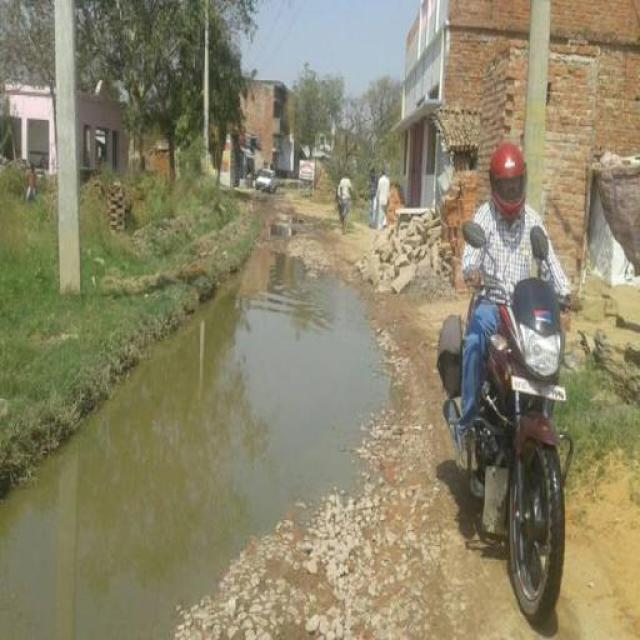puddle: (250, 260, 363, 500), (139, 359, 255, 571), (8, 496, 175, 640)
